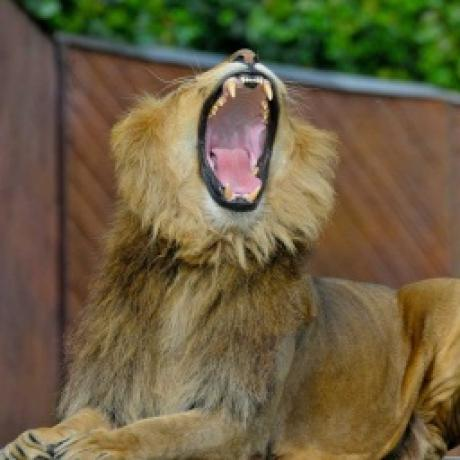Lion: (0, 41, 458, 460)
